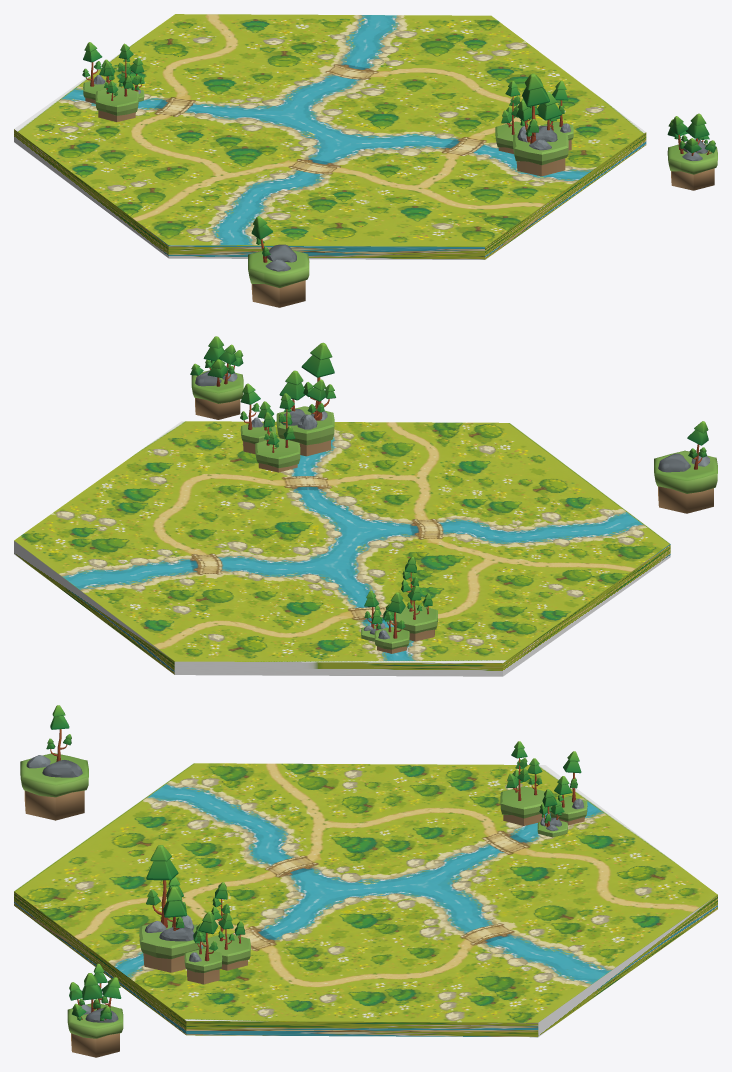
File: map_parts_01.fbx
3 views of the same model, one above another, from view 1: azimuth 30°, elevation 25°; view 2: azimuth 150°, elevation 25°; view 3: azimuth 270°, elevation 25° (orthographic). The views are drawn at different scales.
Parts seen in each view (by area): view 1: Cylinder, forest.L_1.001, Base_Forest_Left.002, forest.L_3.001, forest.R_2.002, forest.R_2.001, forest.R_1.002, forest.R_1.001, forest.L_1.002; view 2: Cylinder, Base_Forest_Left.002, forest.L_1.001, forest.L_3.001, forest.R_2.001, forest.R_2.002, forest.R_1.001, forest.R_1.002, forest.L_1.002; view 3: Cylinder, Base_Forest_Left.002, forest.L_1.001, forest.L_3.001, forest.R_2.002, forest.R_2.001, forest.R_1.001, forest.R_1.002, forest.L_1.002.
Part boxes in pixels (x1,y1,x2,y2): Cylinder: (14,14,646,259); forest.L_1.001: (513,73,568,176); Base_Forest_Left.002: (248,216,309,307); forest.L_3.001: (667,113,717,190); forest.R_2.002: (95,43,138,121); forest.R_2.001: (495,81,531,153); forest.R_1.002: (82,42,116,103); forest.R_1.001: (540,81,573,150); forest.L_1.002: (118,57,144,101); Cylinder: (14,421,670,676); Base_Forest_Left.002: (654,421,717,513); forest.L_1.001: (276,342,335,456); forest.L_3.001: (190,336,243,419); forest.R_2.001: (255,393,300,472); forest.R_2.002: (393,556,437,641); forest.R_1.001: (240,383,275,454); forest.R_1.002: (374,592,409,653); forest.L_1.002: (361,590,387,641); Cylinder: (14,763,717,1037); Base_Forest_Left.002: (20,705,88,820); forest.L_1.001: (139,845,199,972); forest.L_3.001: (67,963,123,1057); forest.R_2.002: (500,741,546,825); forest.R_2.001: (202,882,250,970); forest.R_1.001: (184,911,222,984); forest.R_1.002: (550,751,587,825); forest.L_1.002: (537,789,567,837).
Bounding box in the file's own units: 2343 × 518 × 2542.
5 materials, 5 textured.
